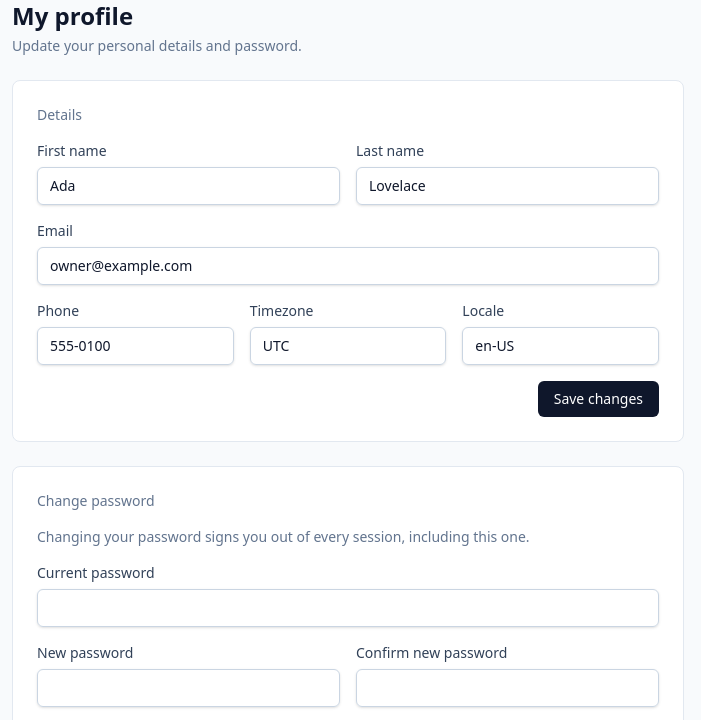
Test: ProfilePage › rejects a change-password submission when confirmation doesn't match
Type "OldPassw0rd!" into the password field labelled "Current password".
click(348, 608); type("OldPassw0rd!")  # box [37,589,659,627]
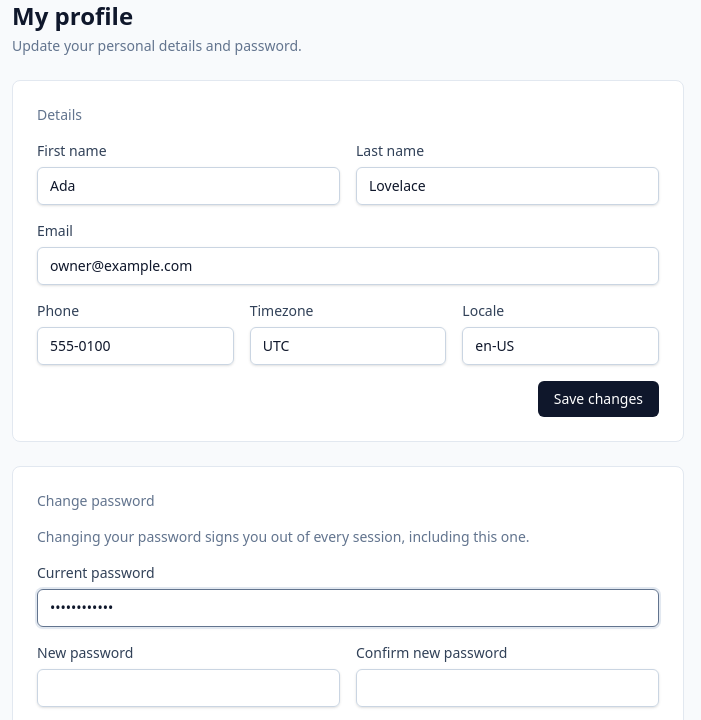
Type "NewPassw0rd!" into the password field labelled "New password".
click(188, 688); type("NewPassw0rd!")  # box [37,669,340,707]
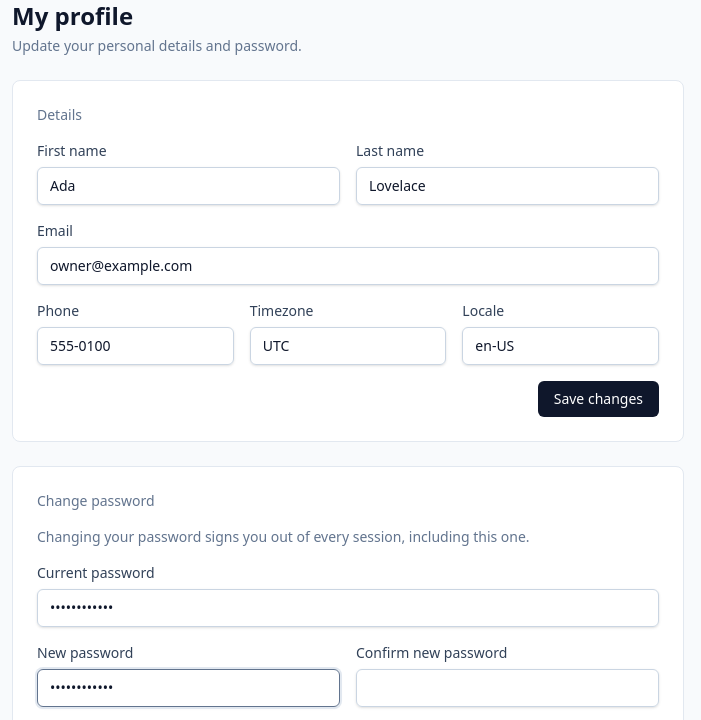
Type "Different1!" into the password field labelled "Confirm new password".
click(508, 688); type("Different1!")  # box [356,669,659,707]
(page scrolled)
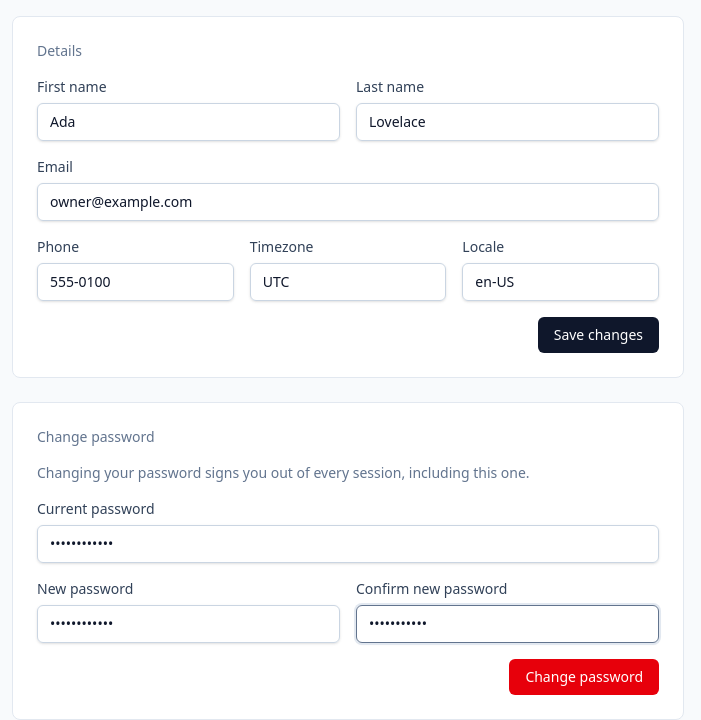
Click the button "Change password".
click(584, 677)  # box [509,659,659,695]
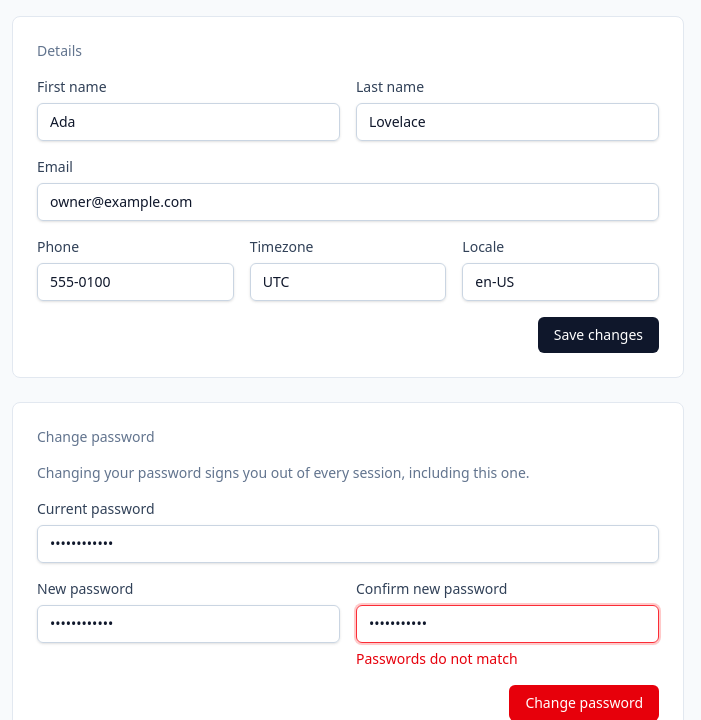
Expected: the text "Passwords do not match" is shown, [356,649,518,668]
